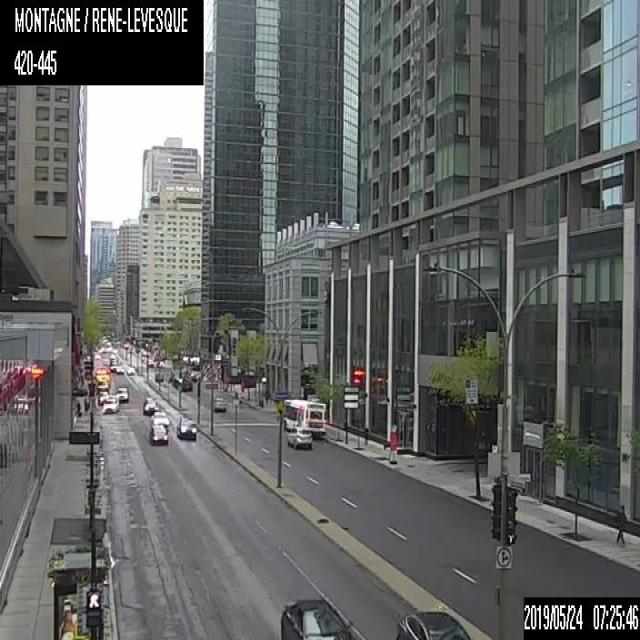bus: (281, 397, 326, 437)
construction: (389, 432, 397, 462)
pedestrian: (614, 501, 626, 544)
vehicle: (279, 596, 354, 639), (395, 608, 470, 639), (286, 425, 312, 449), (174, 415, 197, 440), (148, 422, 168, 444), (100, 394, 118, 413), (150, 411, 169, 429), (94, 373, 109, 395), (143, 396, 157, 414), (213, 394, 225, 410), (181, 374, 192, 390), (115, 386, 127, 400), (97, 389, 107, 404), (154, 369, 162, 383), (115, 365, 124, 372), (127, 366, 134, 374)
